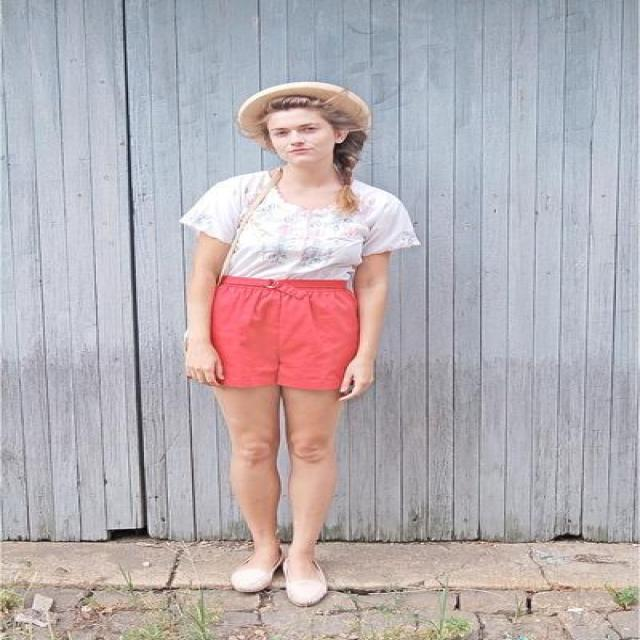hat: (224, 63, 363, 114)
shirt: (179, 170, 419, 280)
shoe: (230, 554, 328, 600)
skirt: (206, 278, 358, 390)
